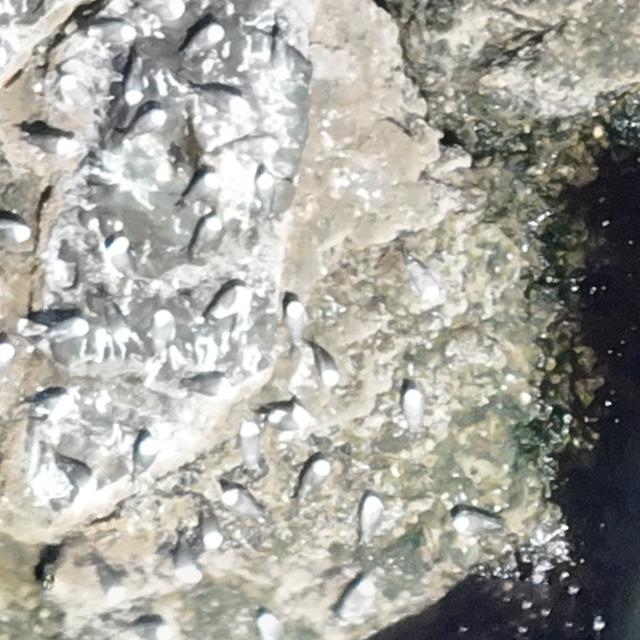umineko: (54, 456, 99, 496), (219, 491, 271, 524), (37, 317, 88, 350), (290, 462, 330, 504), (335, 580, 372, 624), (193, 83, 249, 111), (180, 24, 223, 60), (58, 75, 96, 115), (405, 260, 439, 303), (120, 112, 165, 144), (109, 238, 138, 286), (206, 286, 245, 321), (174, 535, 202, 583), (179, 173, 219, 206), (149, 312, 175, 362), (31, 390, 75, 419), (310, 344, 338, 388), (400, 386, 424, 436), (184, 375, 236, 398), (29, 133, 82, 155), (192, 217, 221, 257), (88, 21, 138, 44), (100, 561, 124, 607), (107, 299, 131, 344), (220, 138, 279, 156), (357, 496, 381, 539), (240, 422, 258, 478), (199, 505, 221, 549), (126, 58, 144, 106), (137, 2, 184, 20), (287, 303, 306, 345), (258, 170, 274, 217), (453, 514, 490, 533), (137, 438, 154, 472), (258, 614, 282, 638), (2, 221, 30, 241), (140, 627, 174, 639)
